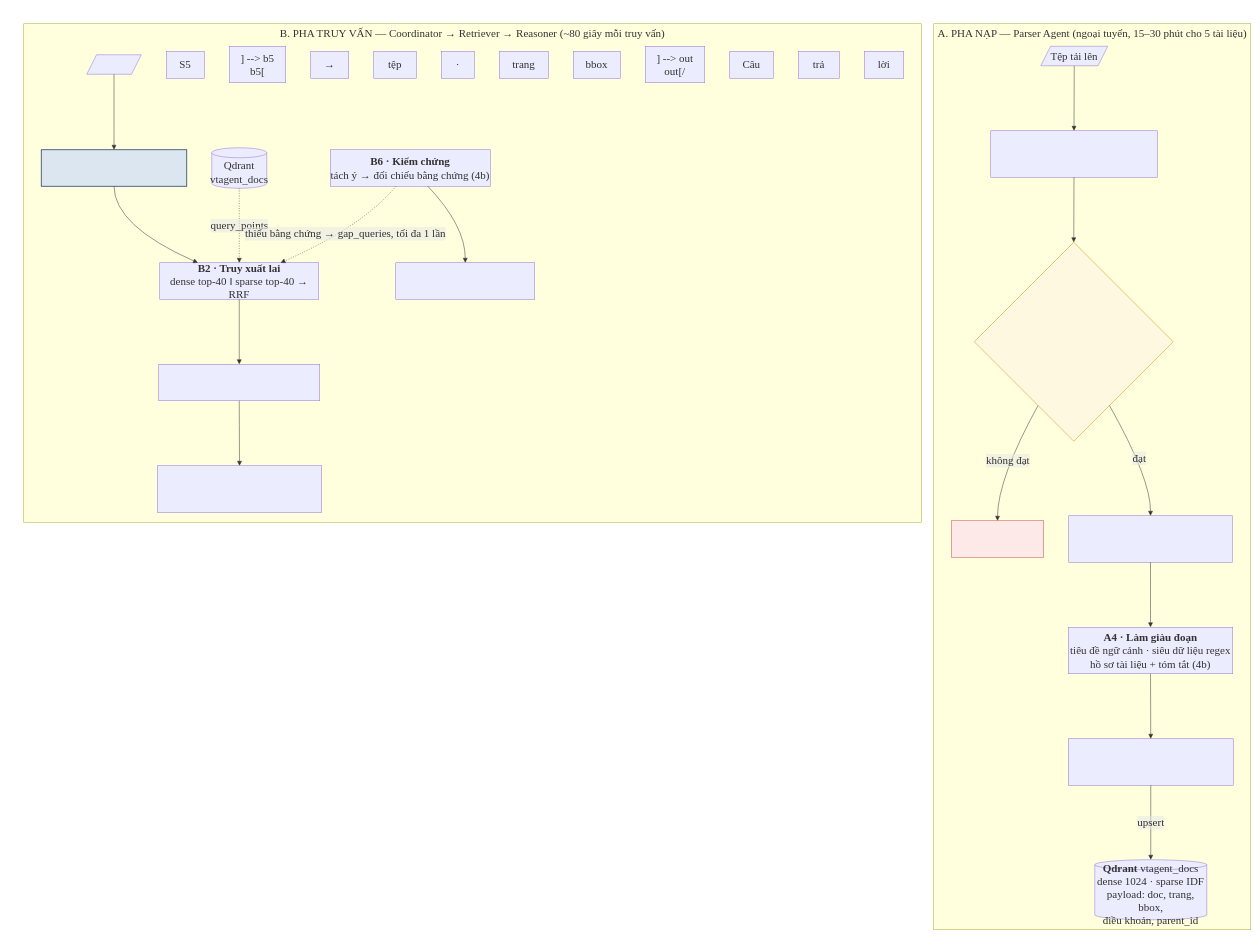
Image size: 1260x939. Some labels were removed from this diagram. Each missing label, with the centre of its shape:
" B4 · Lắp ghép ngữ cảnh con → cha · khử trùng · ≤ 2500 token gắn nhãn [S1: point 239,488
" B7 · Ánh xạ trích dẫn [S#: point 465,280
A1 · Phân tích pymupdf4llm → markdown theo trang pdfplumber → bảng, toạ độ từ: point 1073,153
A2 · Cổng chất lượng mật độ chữ · tỉ lệ dấu tiếng Việt: point 1073,341
A3 · Chia đoạn theo cấu trúc Điều → Khoản → Điểm cha–con · bảng tách riêng: point 1150,538
A5 · Sinh vector dense: bge-m3 qua Ollama sparse: BM25, tách âm tiết tiếng Việt: point 1150,761
B1 · Hiểu truy vấn viết lại · doc_filter · ý định (4b): point 114,167
B3 · Xếp hạng lại cross-encoder · 40 → 5 · lọc ngưỡng: point 239,382
Câu hỏi: point 113,64
Từ chối ảnh quét + thông báo UI: point 997,538
